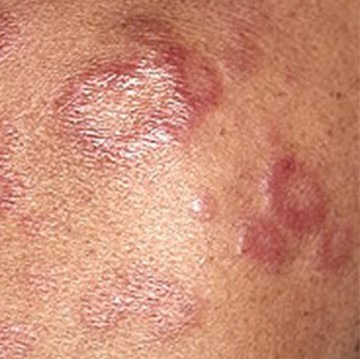Leprosy: (44, 14, 232, 161), (225, 136, 359, 285), (69, 263, 212, 346), (0, 308, 46, 358), (177, 179, 223, 228)
